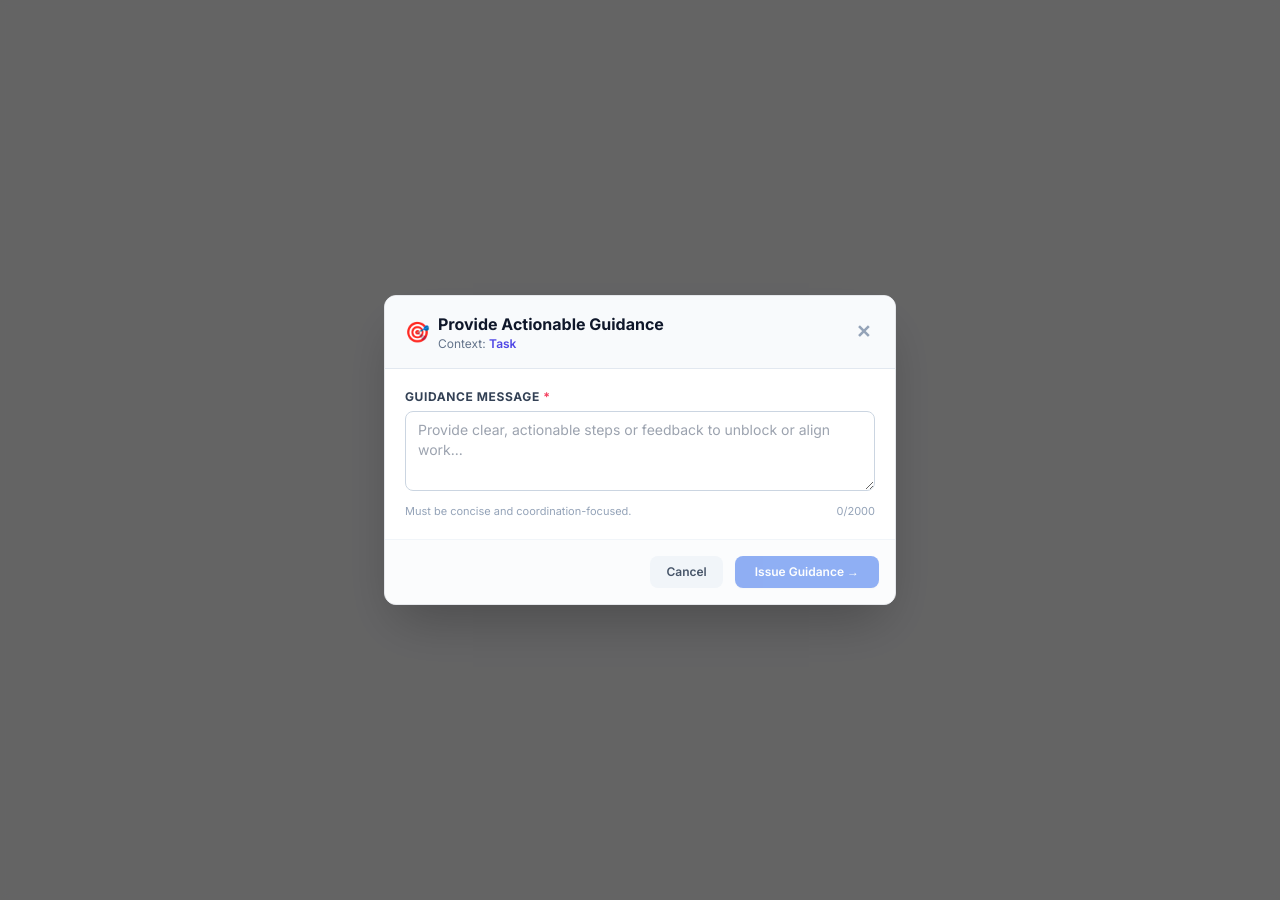
Test: ProvideGuidanceModal Component › 3. Validates message length (< 3 chars)
This screenshot has width=1280, height=900.
Step 1. Replace the text in the text box with test id "guidance-message-input" with "ab" → coordinates (640, 451), box [405,411,875,491]
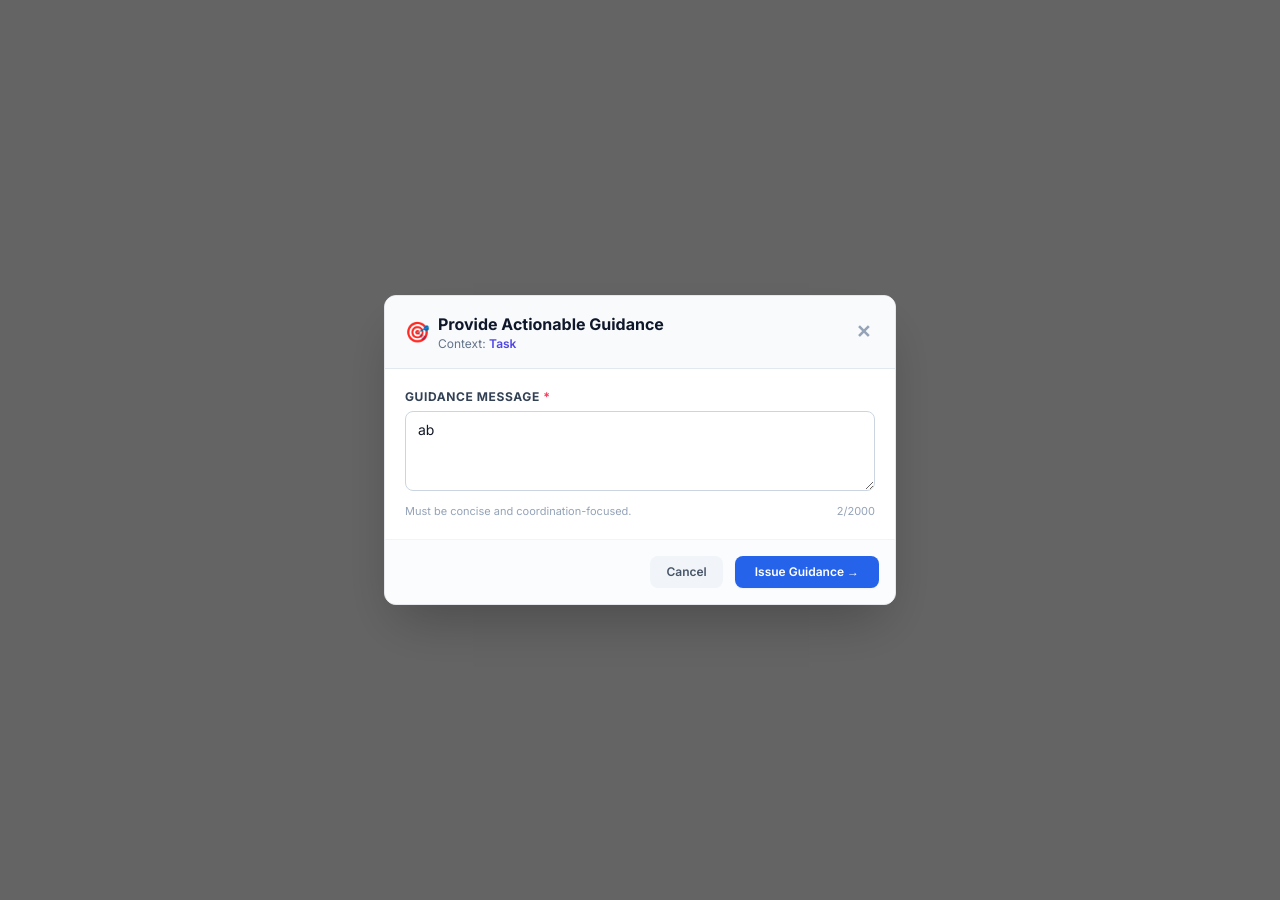
Step 2. Click the button with test id "submit-guidance-btn" → coordinates (807, 572), box [735,556,879,588]
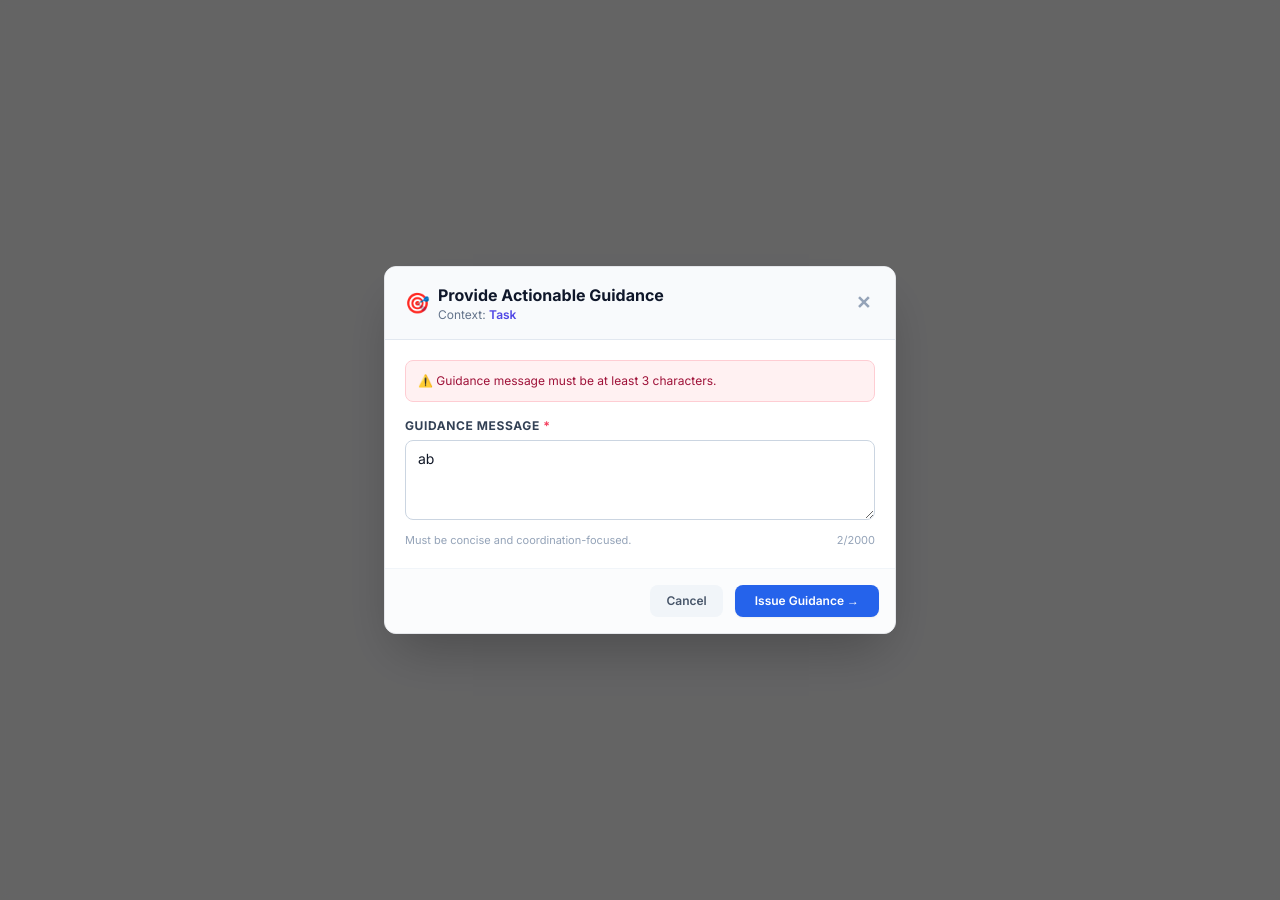
Expected: the element with test id "guidance-error" is shown, [405,360,875,402]
Expected: the text "⚠️ Guidance message must be at least 3 characters." is shown, [418,373,716,388]
